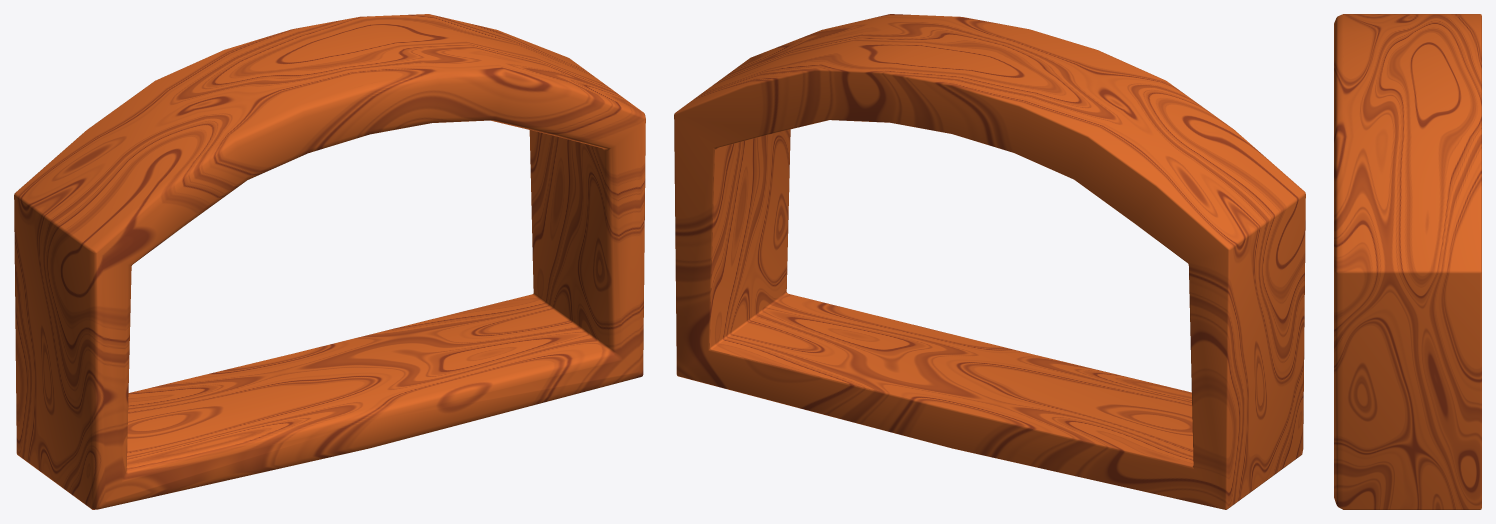
File: Ventana_frontal_externa.fbx
The picture shows the model from 3 angles, left to right: view 1: azimuth 30°, elevation 25°; view 2: azimuth 150°, elevation 25°; view 3: azimuth 270°, elevation 25°; orthographic projection. The views are drawn at different scales.
Visible parts, largest first — view 1: Marco_ventana_frontal; view 2: Marco_ventana_frontal; view 3: Marco_ventana_frontal.
Boxes of the visible parts, x1,y1,x2,y2 form: Marco_ventana_frontal: (14, 14, 645, 509); Marco_ventana_frontal: (674, 14, 1305, 509); Marco_ventana_frontal: (1334, 14, 1481, 509).
Bounding box in the file's own units: 6421 × 4021 × 1616.
